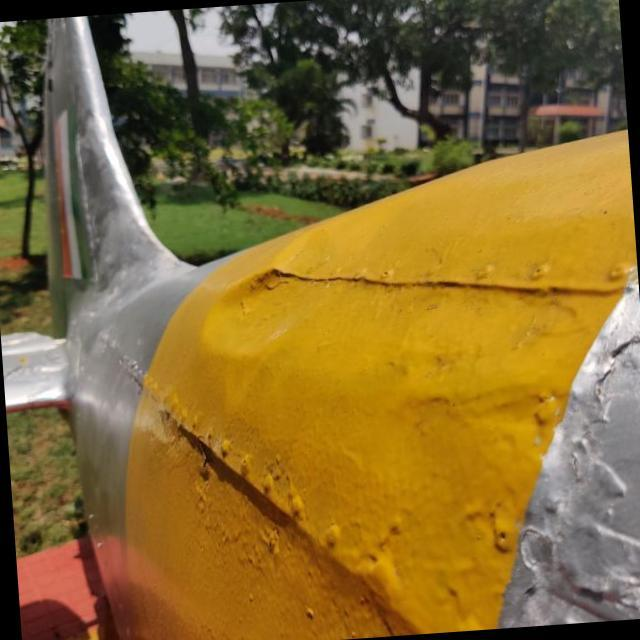Dent: (181, 250, 329, 396)
